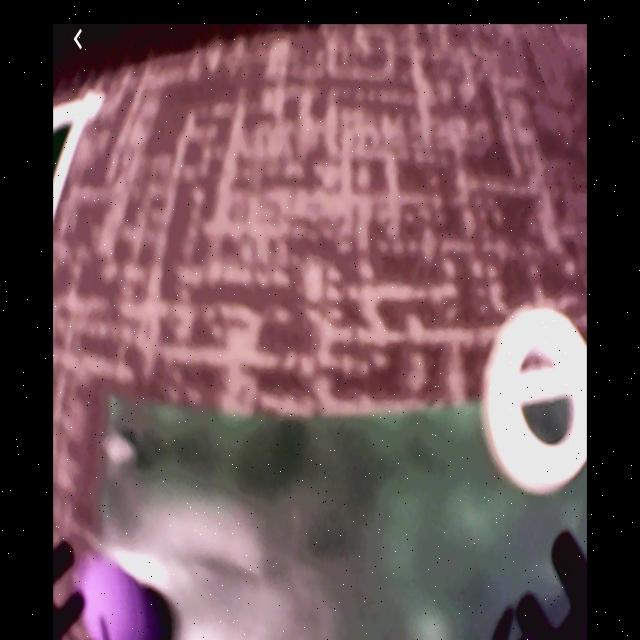ball: (77, 556, 157, 639)
